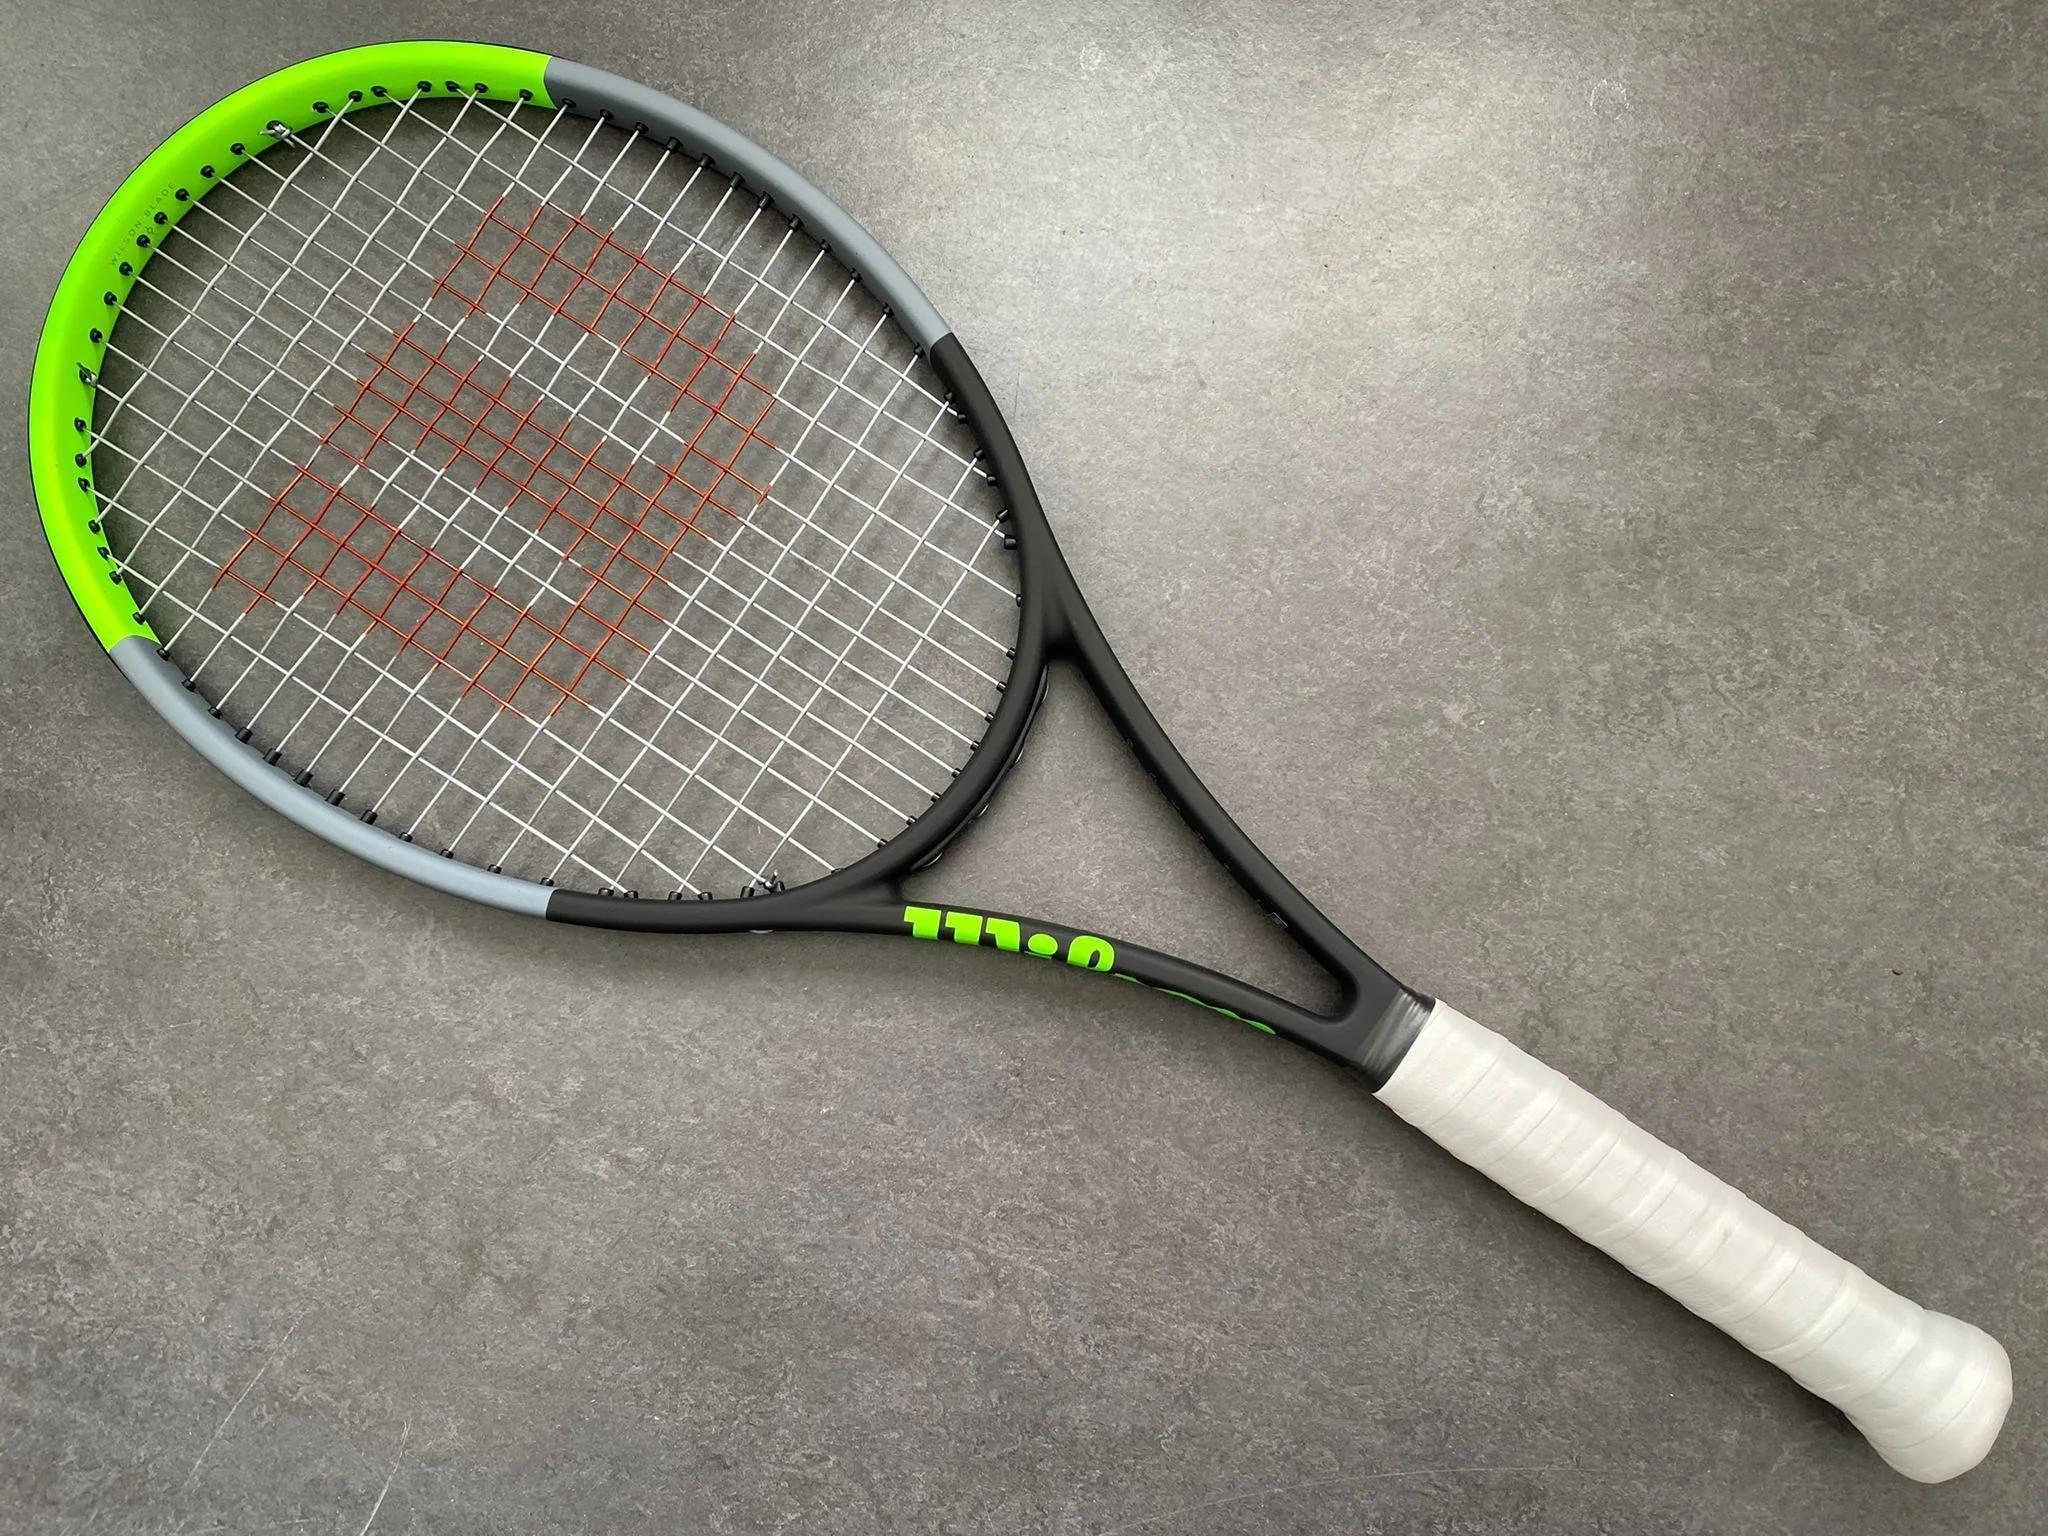Tennis-Racket: (32, 44, 2013, 1480)
